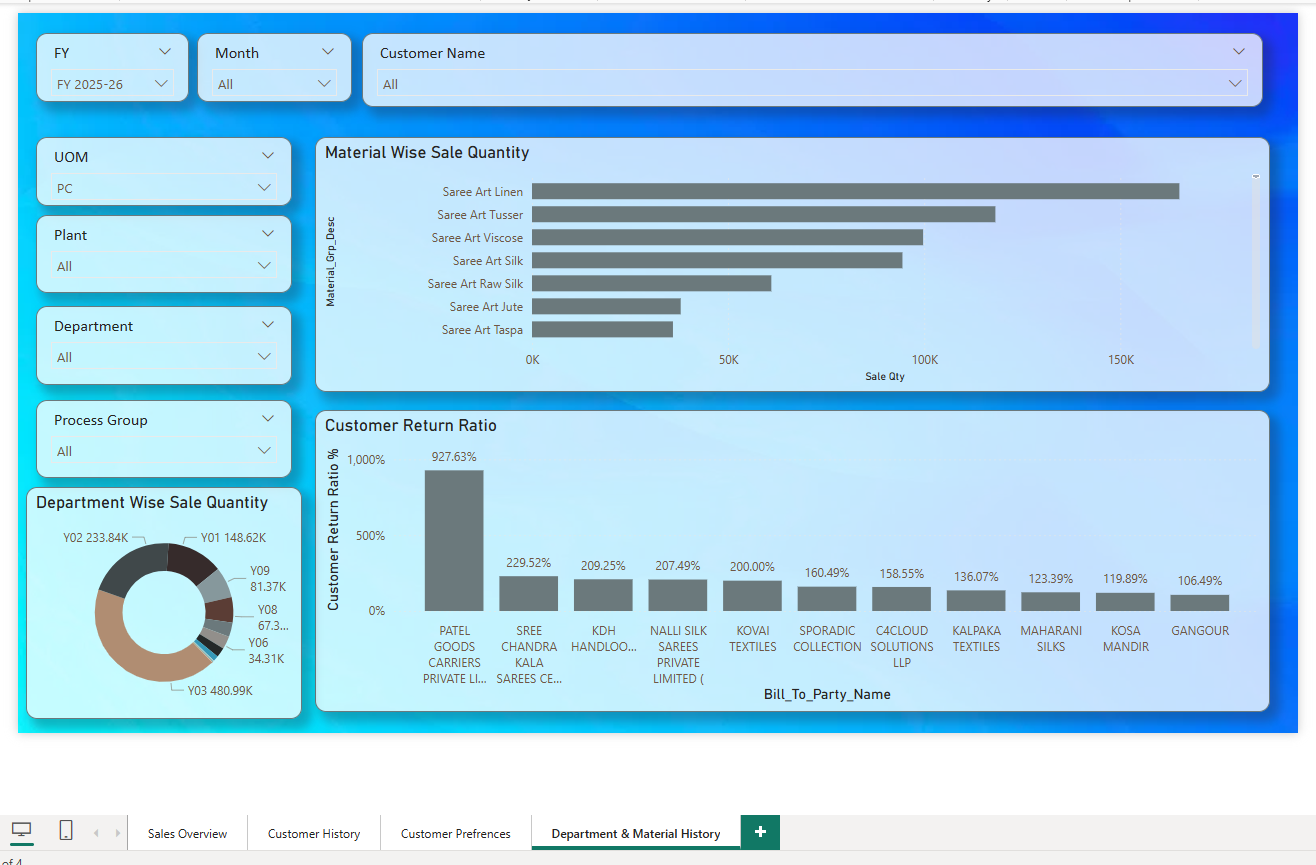

The dashboard page shown, as its layout file describes it:
{"tool":"powerbi","page":{"name":"Department & Material History","canvas":[1280,720],"ordinal":3},"visuals":[{"type":"slicer","fields":{"Values":["DateTable.FY"]},"box":[18.5,20.4,152.7,69.1],"z":0},{"type":"slicer","title":"Month","fields":{"Values":["DateTable.Month Name"]},"box":[179,20.4,154.7,69.1],"z":1000},{"type":"slicer","fields":{"Values":["Unit Of Measurment.UOM"]},"box":[18,124,256,69],"z":2000},{"type":"slicer","fields":{"Values":["yngs_sales plant_master.Plant_Code"]},"box":[18,202,256,78],"z":3000},{"type":"slicer","fields":{"Values":["yngs_sales sales_group_master.Sales_Group"]},"box":[18,293,256,79],"z":4000},{"type":"slicer","fields":{"Values":["yngs_sales process_group_master.Process_Group_Name"]},"box":[18,387,256,78],"z":5000},{"type":"slicer","fields":{"Values":["yngs_sales bill_to_party_master.Bill_To_Party_Name"]},"box":[344,20,901,74],"z":6000},{"type":"clusteredColumnChart","title":"Customer Return Ratio","fields":{"Category":["yngs_sales bill_to_party_master.Bill_To_Party_Name"],"Y":["sales_invoice_data.Customer Return Ratio %"]},"box":[297,397.1,955.4,302.1],"z":7000},{"type":"clusteredBarChart","title":"Material Wise Sale Quantity","fields":{"Y":["sales_invoice_data.Sale Qty"],"Category":["sales_invoice_data.Material_Grp_Desc"]},"box":[297,123.5,955.4,255.2],"z":8000},{"type":"donutChart","title":"Department Wise Sale Quantity","fields":{"Category":["yngs_sales sales_group_master.Sales_Group"],"Y":["sales_invoice_data.Sale Qty"]},"box":[8,474,276,232],"z":9000}]}

Visuals, with their boxes in screenshot pixels (x1, y1, x2, y2):
slicer - DateTable.FY: bbox=[43, 28, 198, 98]
"Month" slicer: bbox=[205, 28, 362, 98]
slicer - Unit Of Measurment.UOM: bbox=[42, 133, 302, 203]
slicer - yngs_sales plant_master.Plant_Code: bbox=[42, 212, 302, 291]
slicer - yngs_sales sales_group_master.Sales_Group: bbox=[42, 304, 302, 384]
slicer - yngs_sales process_group_master.Process_Group_Name: bbox=[42, 399, 302, 478]
slicer - yngs_sales bill_to_party_master.Bill_To_Party_Name: bbox=[373, 27, 1286, 102]
"Customer Return Ratio" clusteredColumnChart: bbox=[325, 409, 1294, 716]
"Material Wise Sale Quantity" clusteredBarChart: bbox=[325, 132, 1294, 391]
"Department Wise Sale Quantity" donutChart: bbox=[32, 487, 312, 723]
